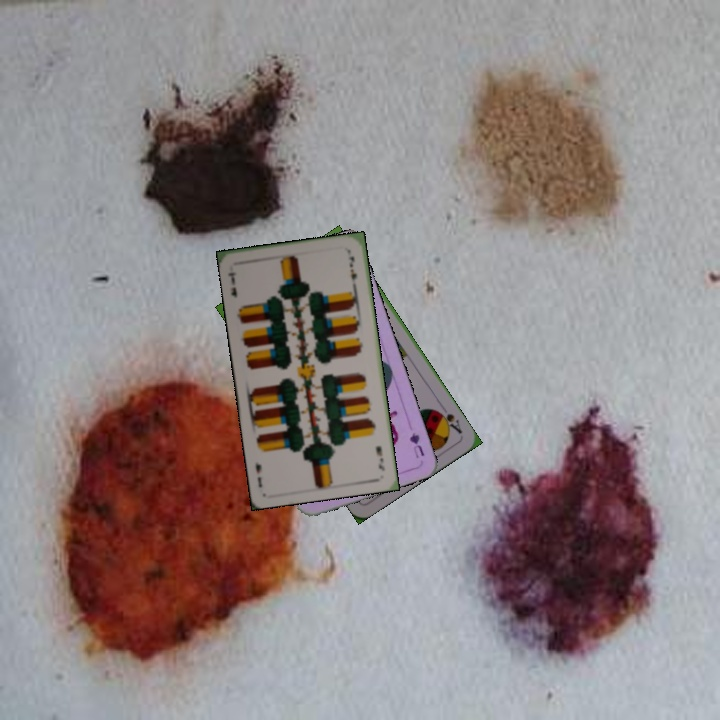E7: (224, 268, 239, 301), (372, 442, 387, 473)
GU: (405, 428, 427, 461)
SA: (432, 405, 465, 436)
